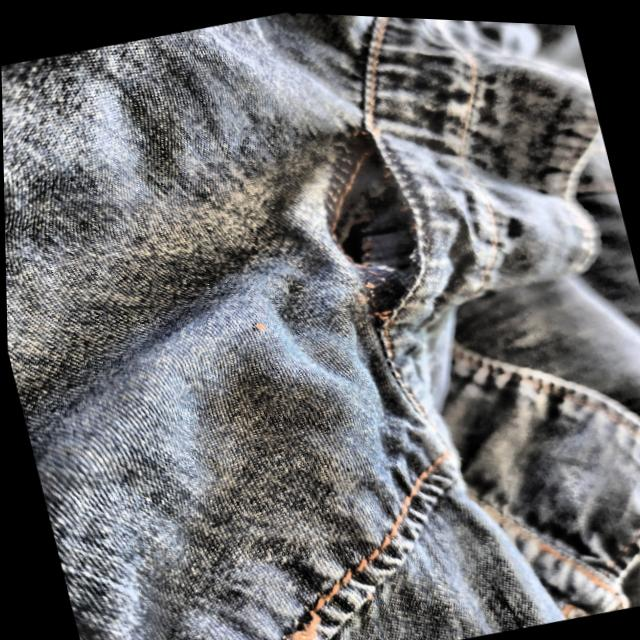seam: (293, 113, 451, 339)
